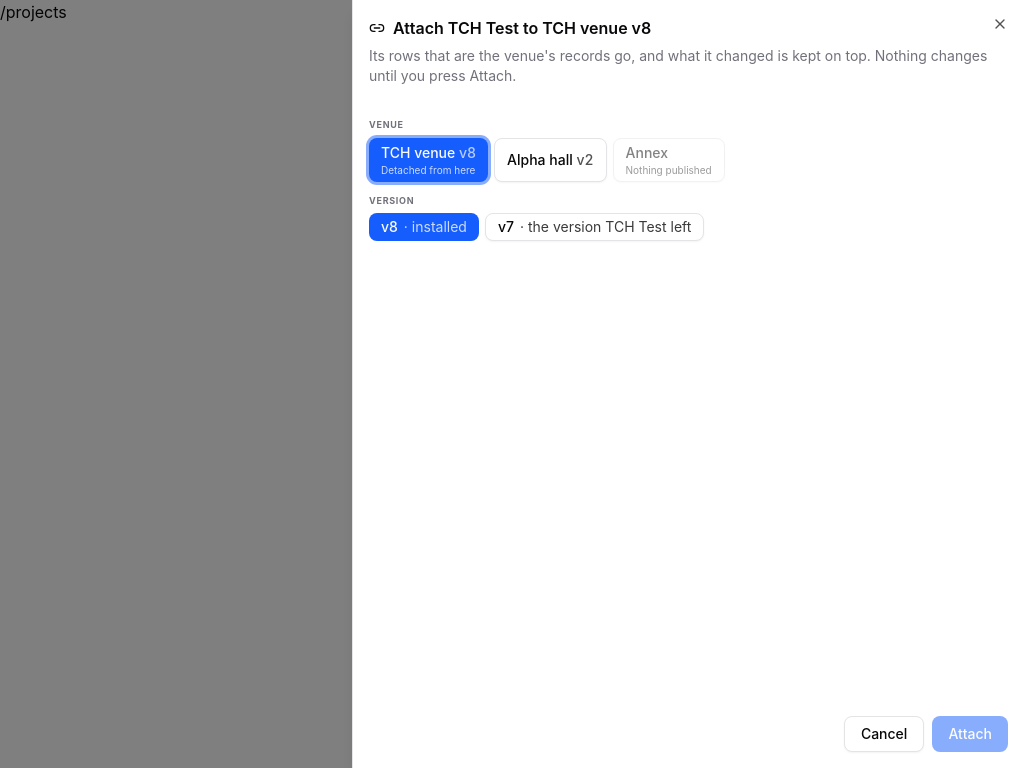
Test: the review › says a show attached behind on output runs against its pin while it is on the rig
The image size is (1024, 768).
Click the radio button labelled "v7 · the version TCH Test left": (595, 227) [485,213,704,241]
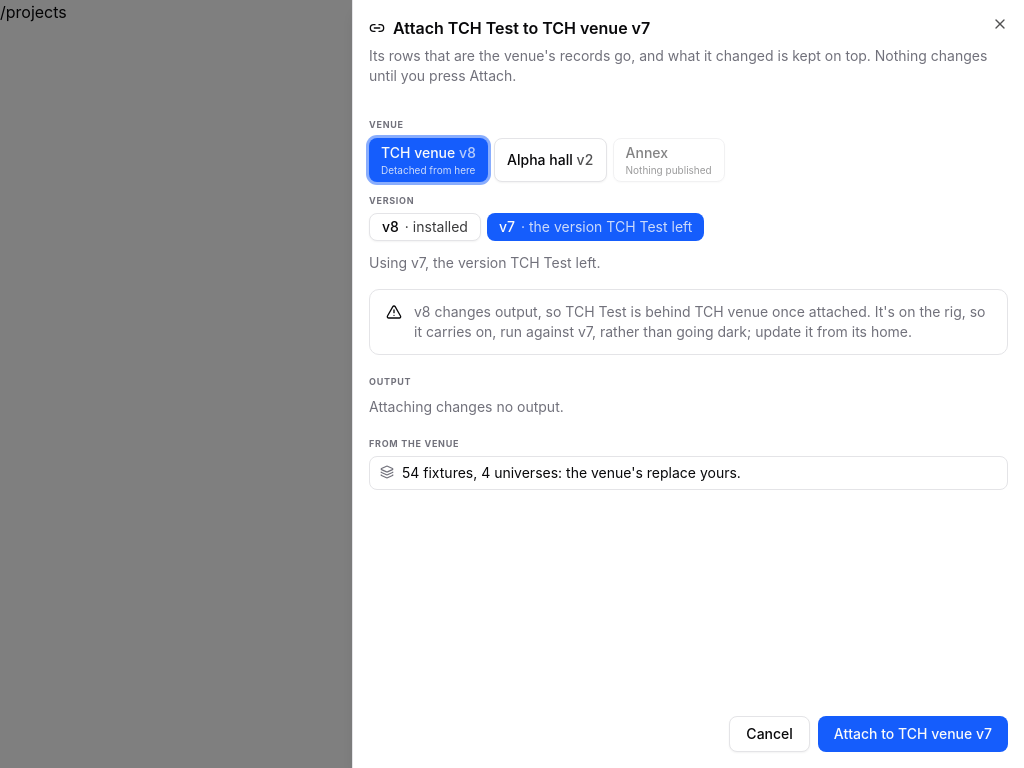
Check: the text "carries on, run against v7, rather than going dark" is shown, box [414,303,986,340]
